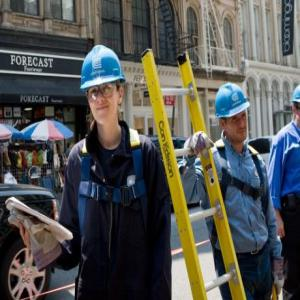blue: (81, 45, 126, 125), (216, 83, 251, 147)
